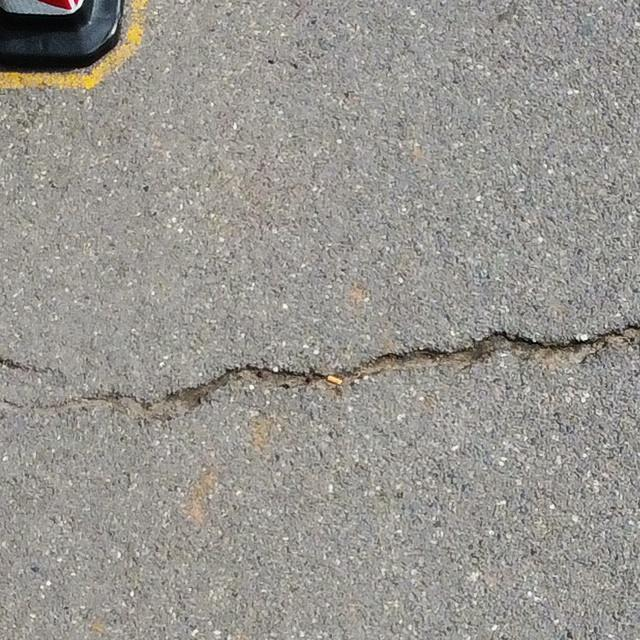TransverseCrack: (1, 323, 640, 423)
